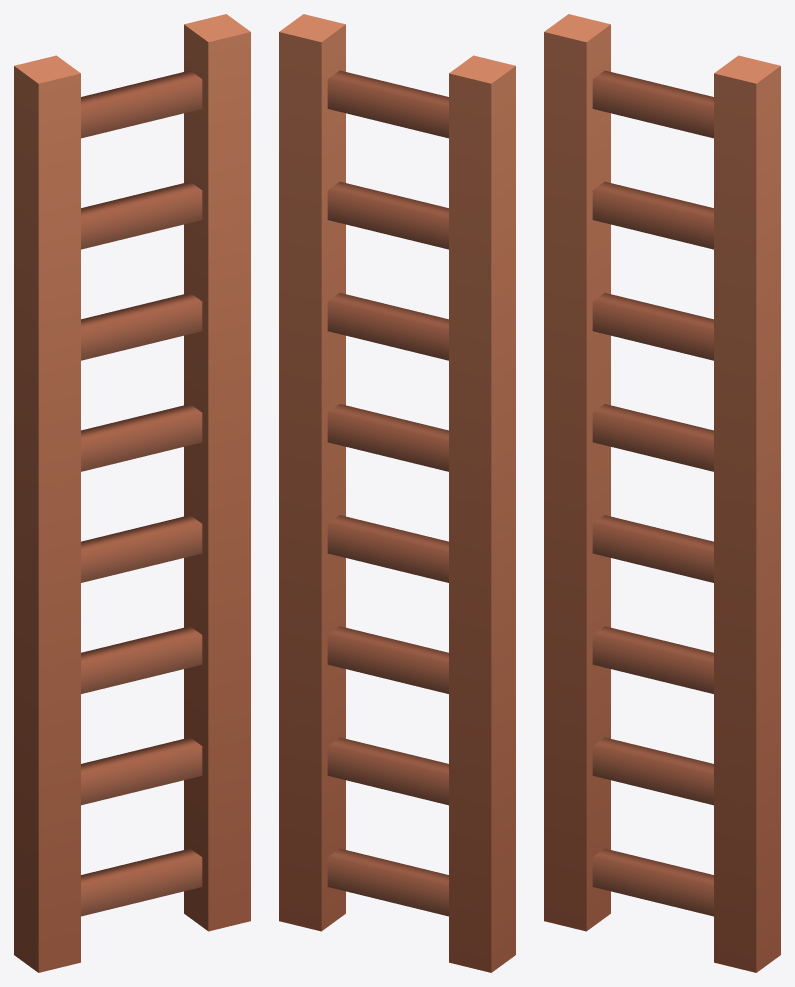
Rendered from ladder-long.glb.
3 renders of one model, left to right at view 1: azimuth 30°, elevation 25°; view 2: azimuth 150°, elevation 25°; view 3: azimuth 330°, elevation 25°, orthographic.
Visible parts, largest first — view 1: ladder-long; view 2: ladder-long; view 3: ladder-long.
Part boxes in pixels (x1,y1,x2,y2): ladder-long: (14, 14, 250, 972); ladder-long: (279, 14, 515, 972); ladder-long: (544, 14, 780, 972).
Size of the model in its own units: 0.5 by 2 by 0.1.
1 material, 1 textured.
